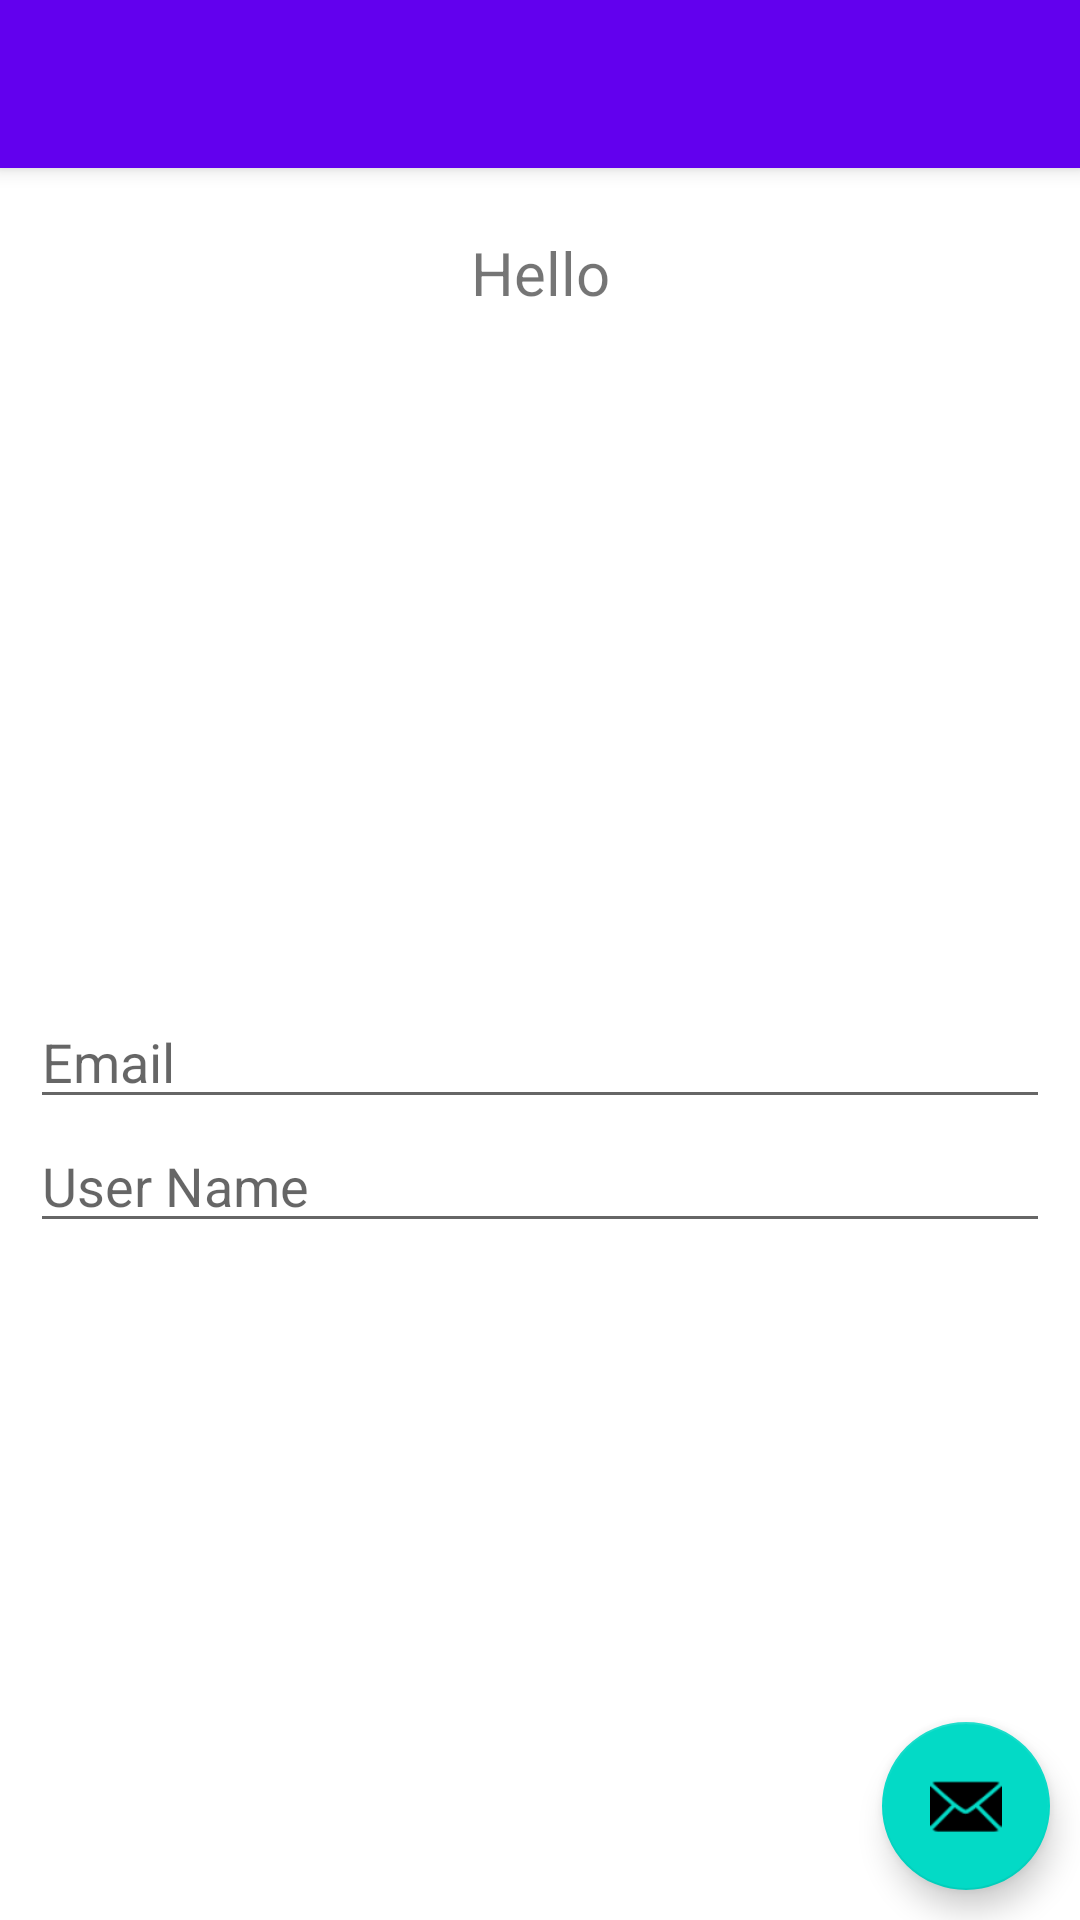

Where icons sit on this 1080w x 1920h app screen, as Rect(x1, y1, x2, y2):
email: Rect(882, 1722, 1050, 1890)
